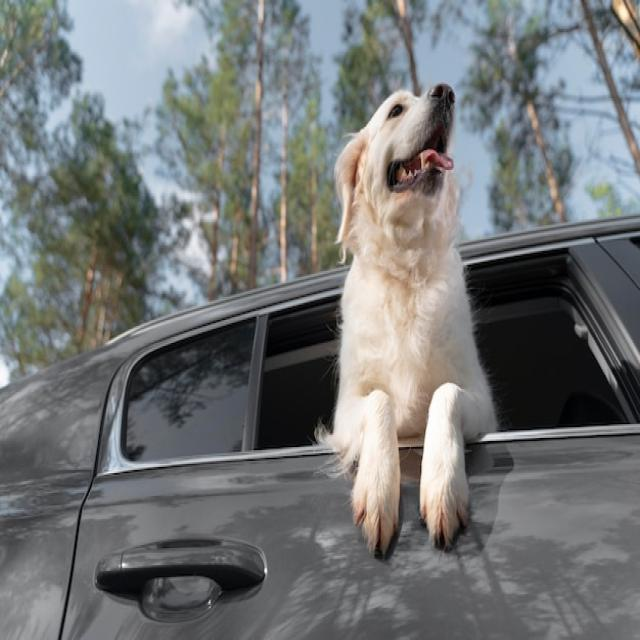Dog: (316, 84, 496, 559)
